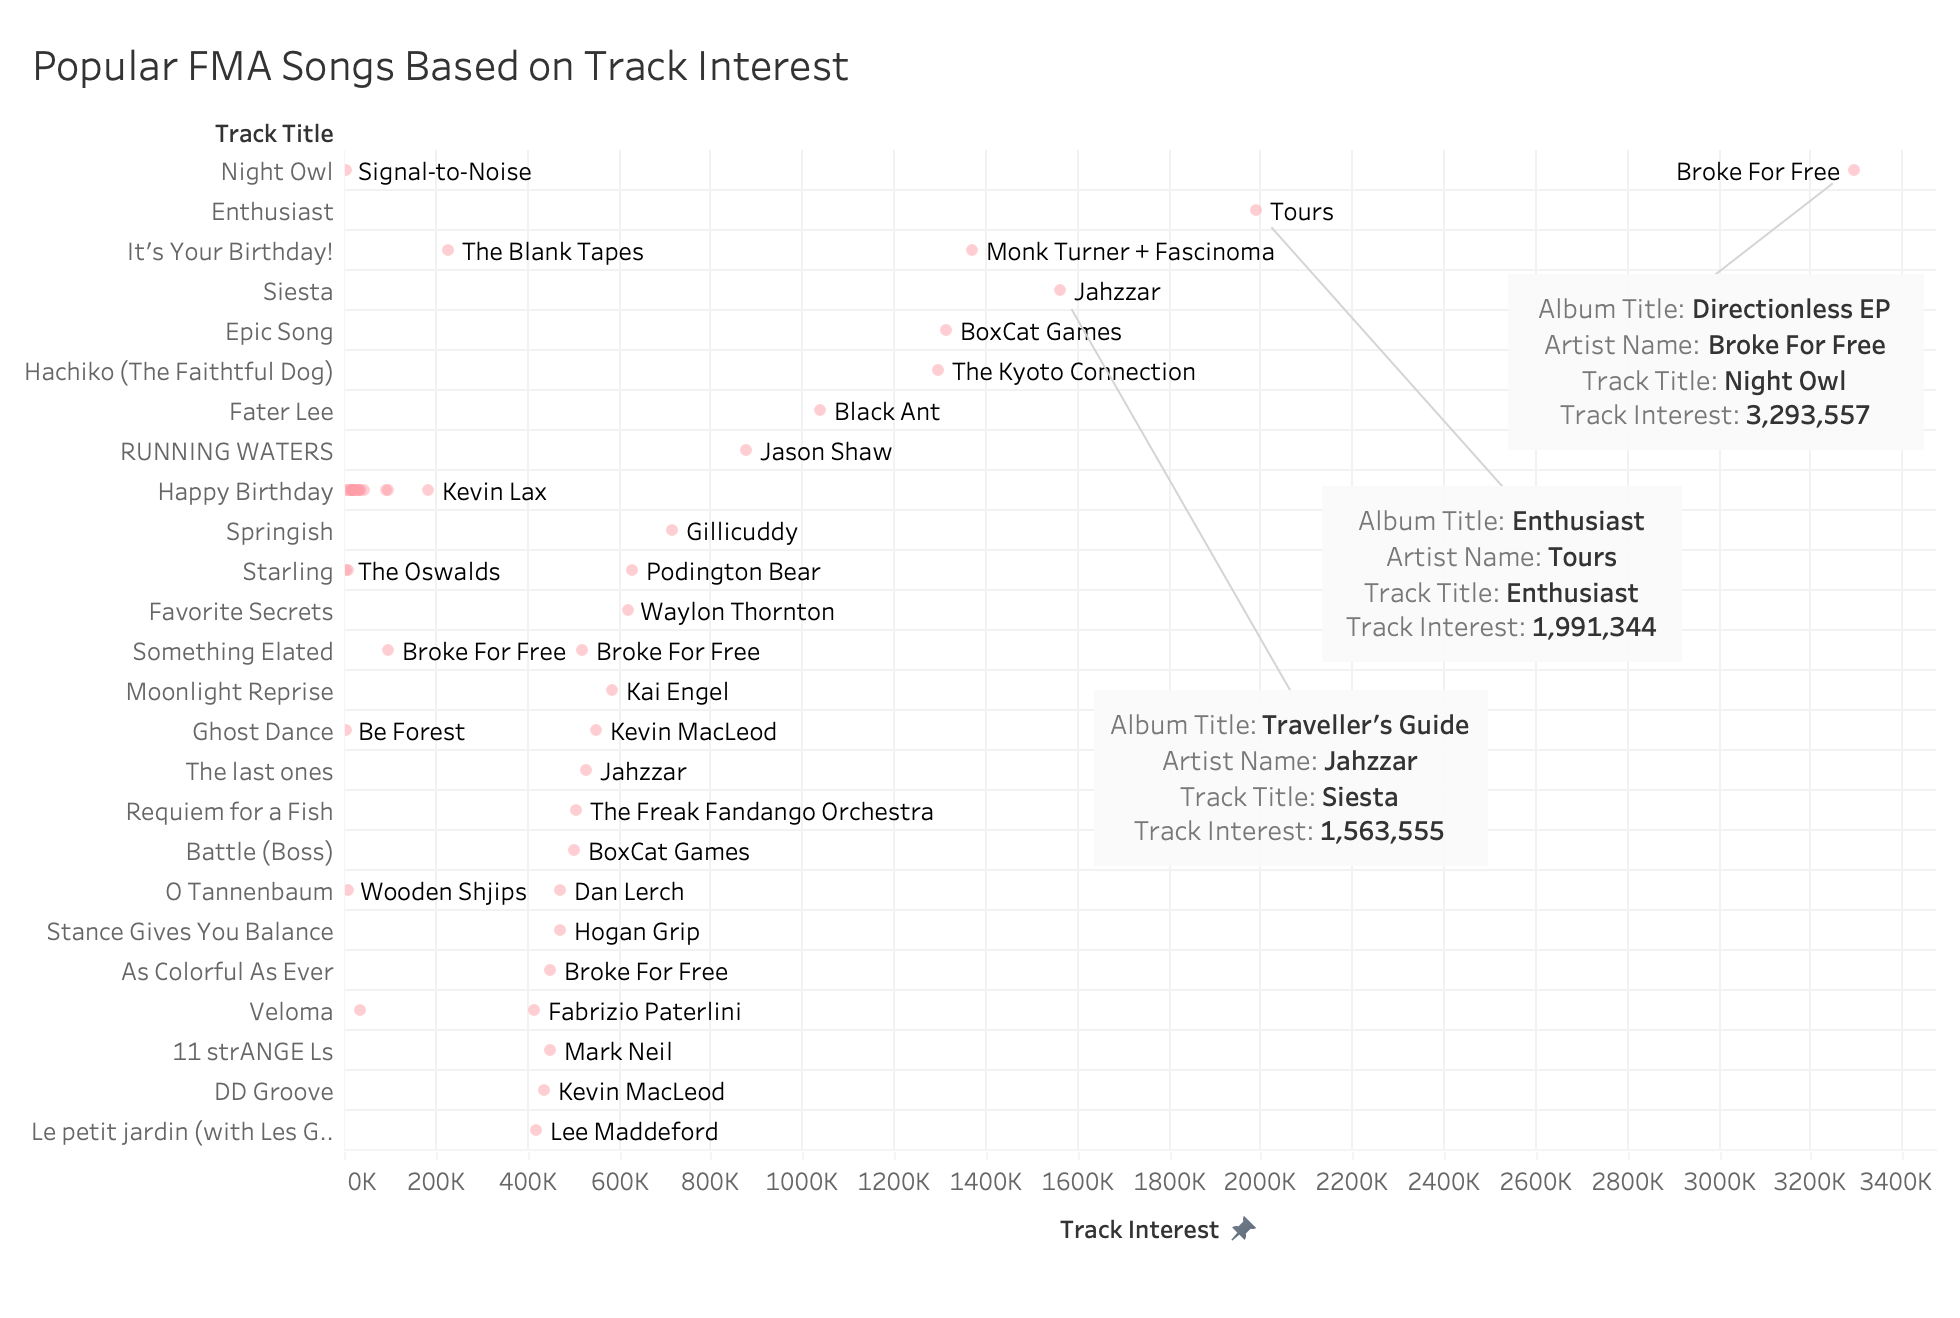

Layout of this report page (visuals, bound fields, positions):
{"tool":"tableau","page":{"name":"Dashboard 1 (2)","canvas":[1600,900],"ordinal":1},"visuals":[{"type":"worksheet","title":"Sheet 1","mark":"Automatic","box":[8,8,1584,884]}]}

Visuals, with their boxes on the page's 1600x900 design canvas (x1, y1, x2, y2). These are canvas units, not pixel positions in the 1960x1318 screenshot, which may show the page scaled, cropped or inside an application window:
"Sheet 1" worksheet: bbox=(8, 8, 1592, 892)
